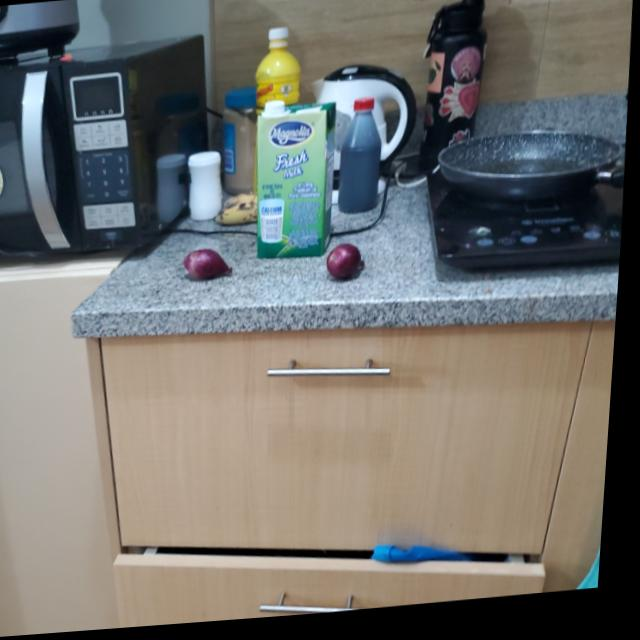milk: (254, 101, 340, 268)
onion: (186, 249, 240, 286), (329, 246, 372, 286)
